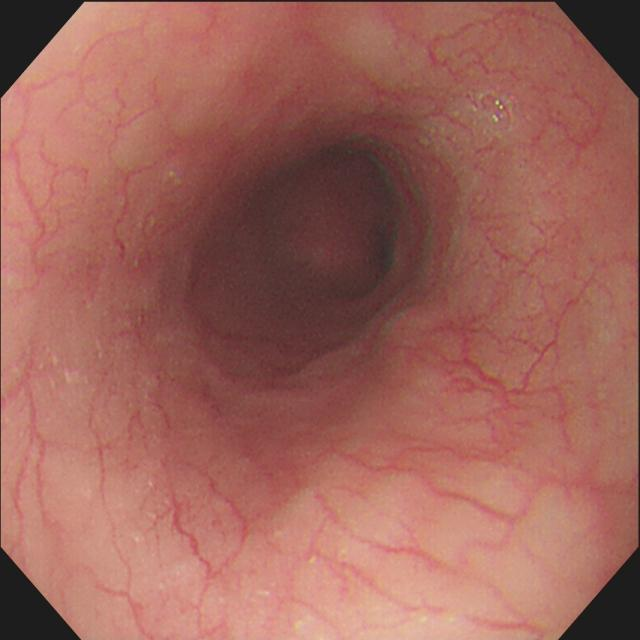E: (239, 153, 395, 329)
T: (478, 90, 516, 140)
